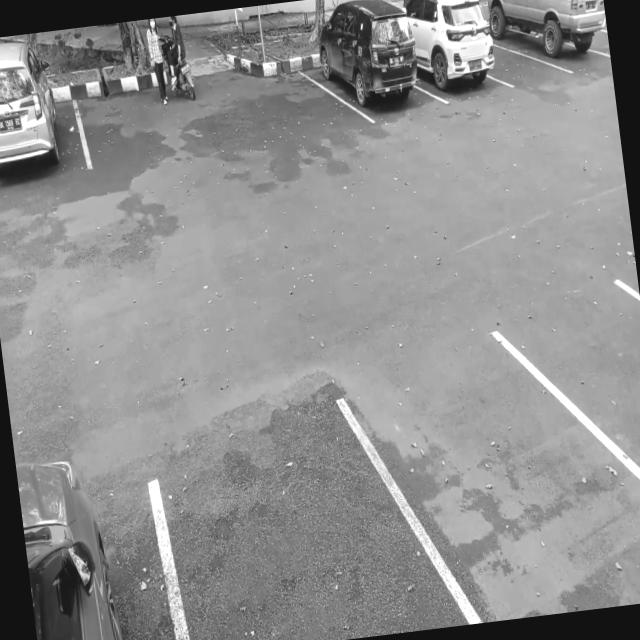car: (312, 10, 424, 124), (0, 50, 83, 194), (413, 0, 502, 108), (482, 0, 608, 76)
free: (359, 315, 640, 628), (145, 389, 438, 640)
